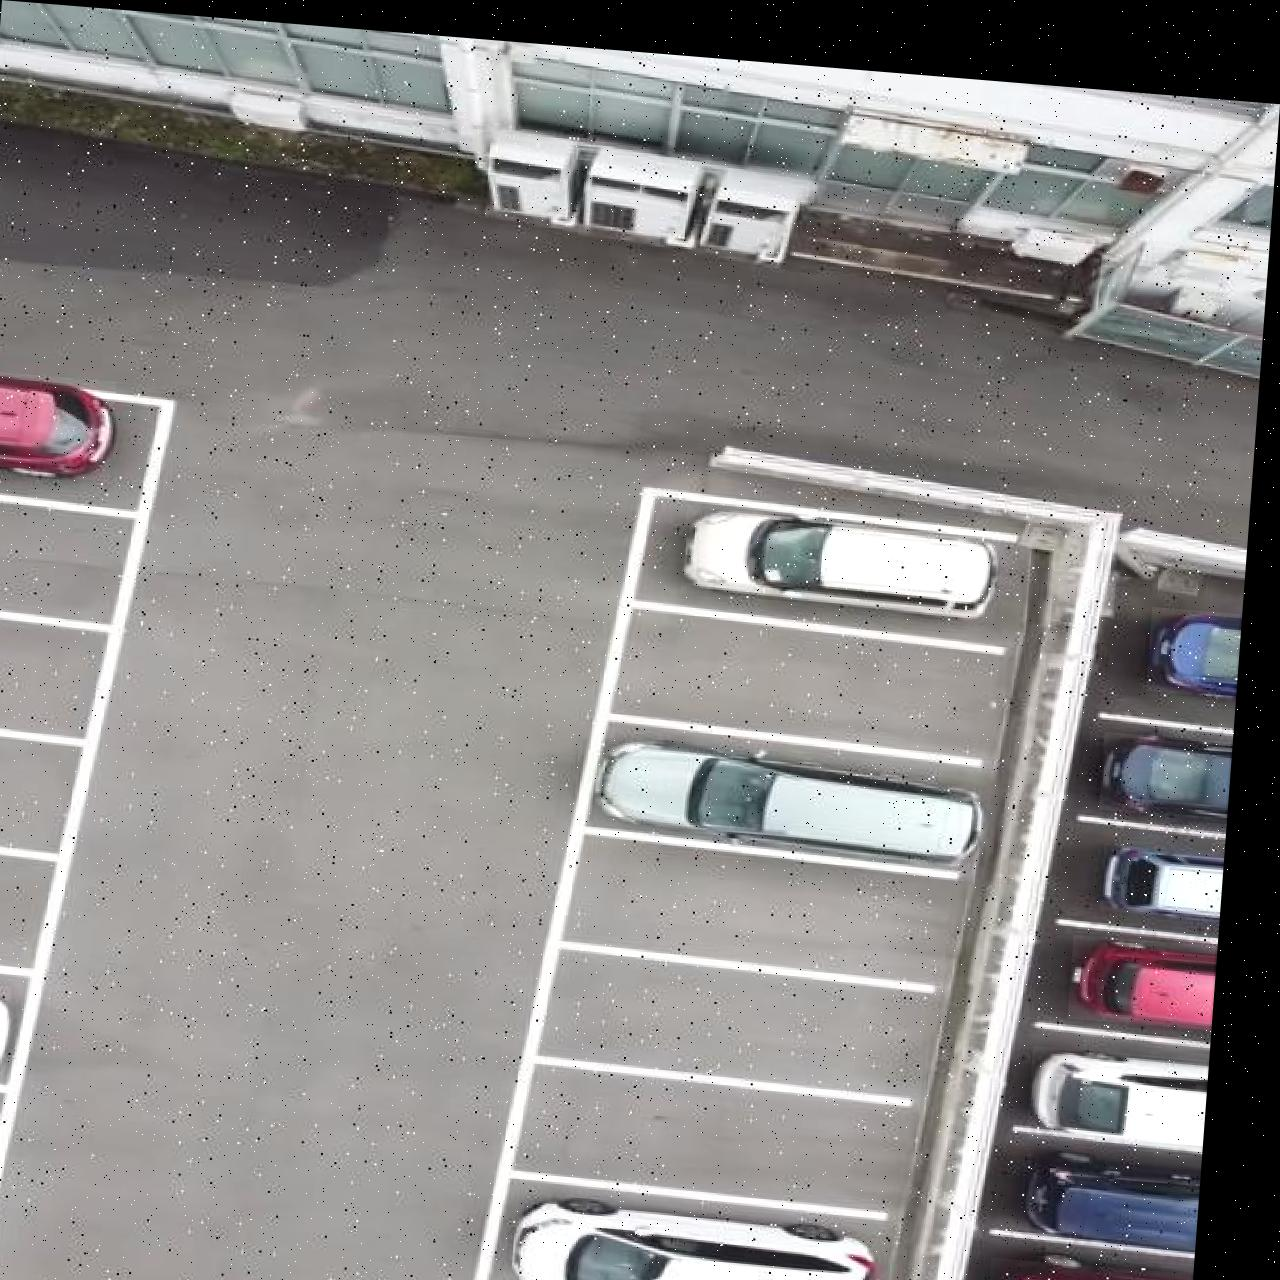car: (604, 723, 996, 852), (524, 1180, 901, 1280), (689, 492, 1008, 605), (1043, 1027, 1223, 1130), (1037, 1131, 1217, 1230), (1082, 914, 1228, 1008), (0, 370, 122, 479), (581, 134, 713, 234), (700, 150, 818, 253), (1110, 712, 1241, 798), (482, 117, 587, 216), (1112, 823, 1234, 898), (1003, 1239, 1210, 1280), (1156, 586, 1248, 676), (0, 980, 27, 1094)
